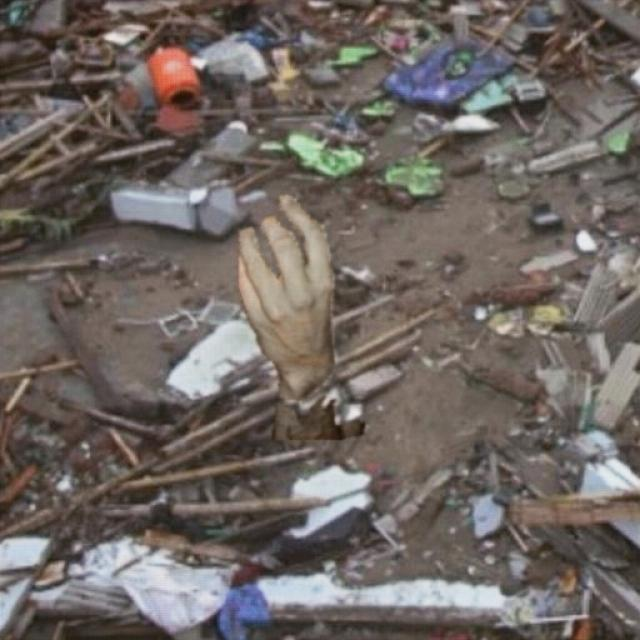Person in Rubble: (239, 195, 395, 439)
